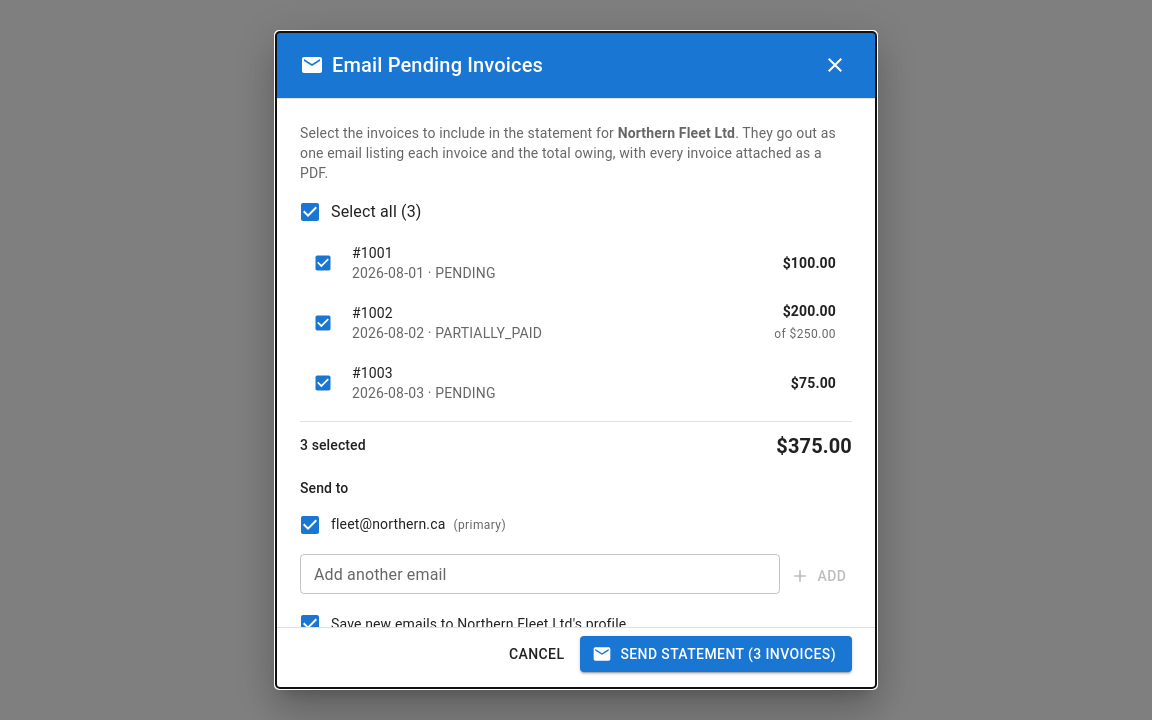
Test case: BulkInvoiceEmailDialog › confirms what was sent, and the total owing
Click the button "Send statement (3 invoices)".
click(716, 654)  # box [580,636,852,672]
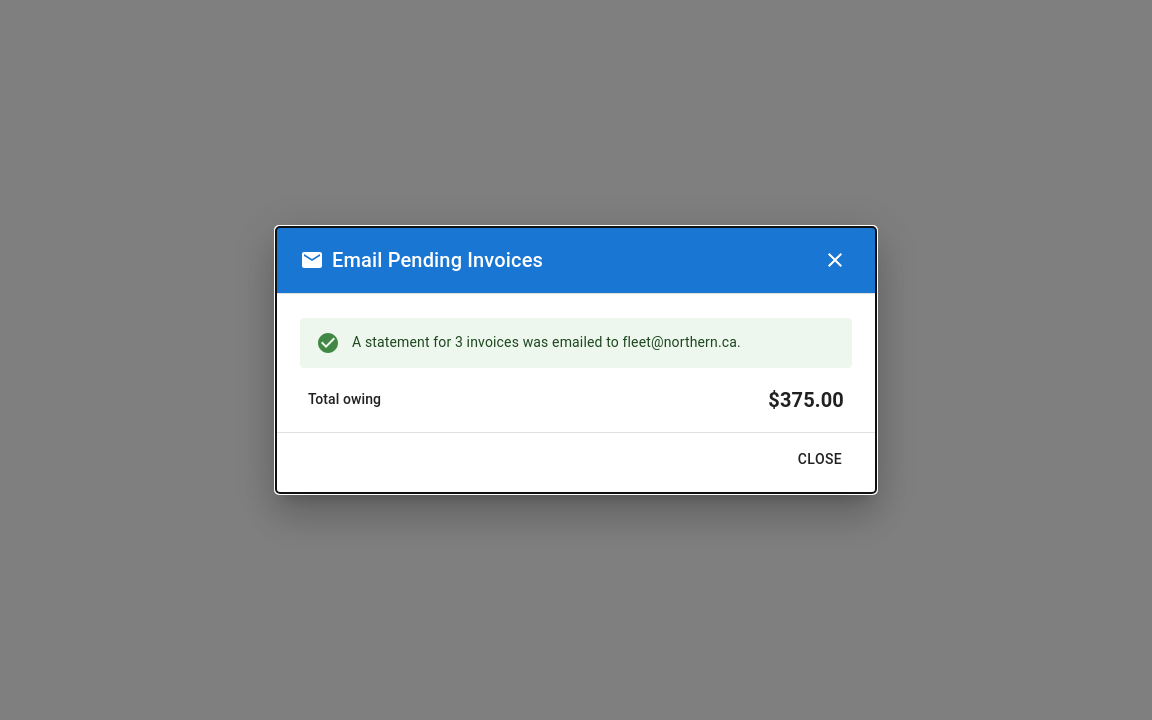
Expected: the heading "Total owing" is shown, [308,389,381,411]
Expected: the text "A statement for 3 invoices was emailed to fleet@northern.ca." is shown, [352,334,741,350]
